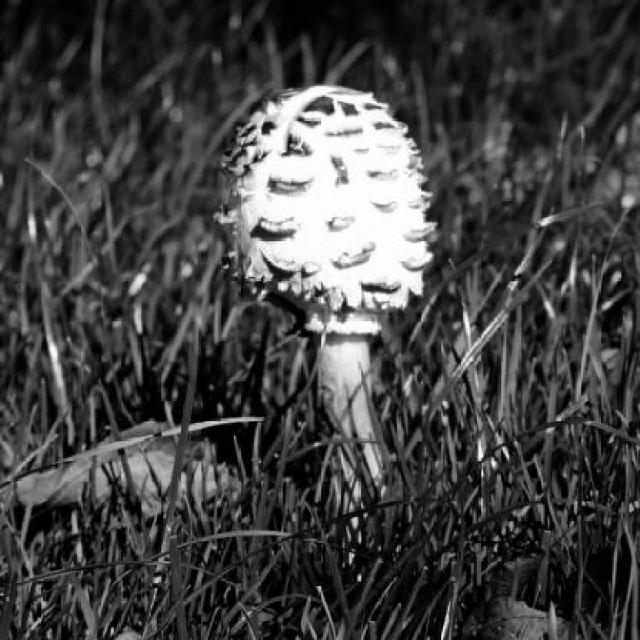Mushroom: (208, 49, 437, 500)
